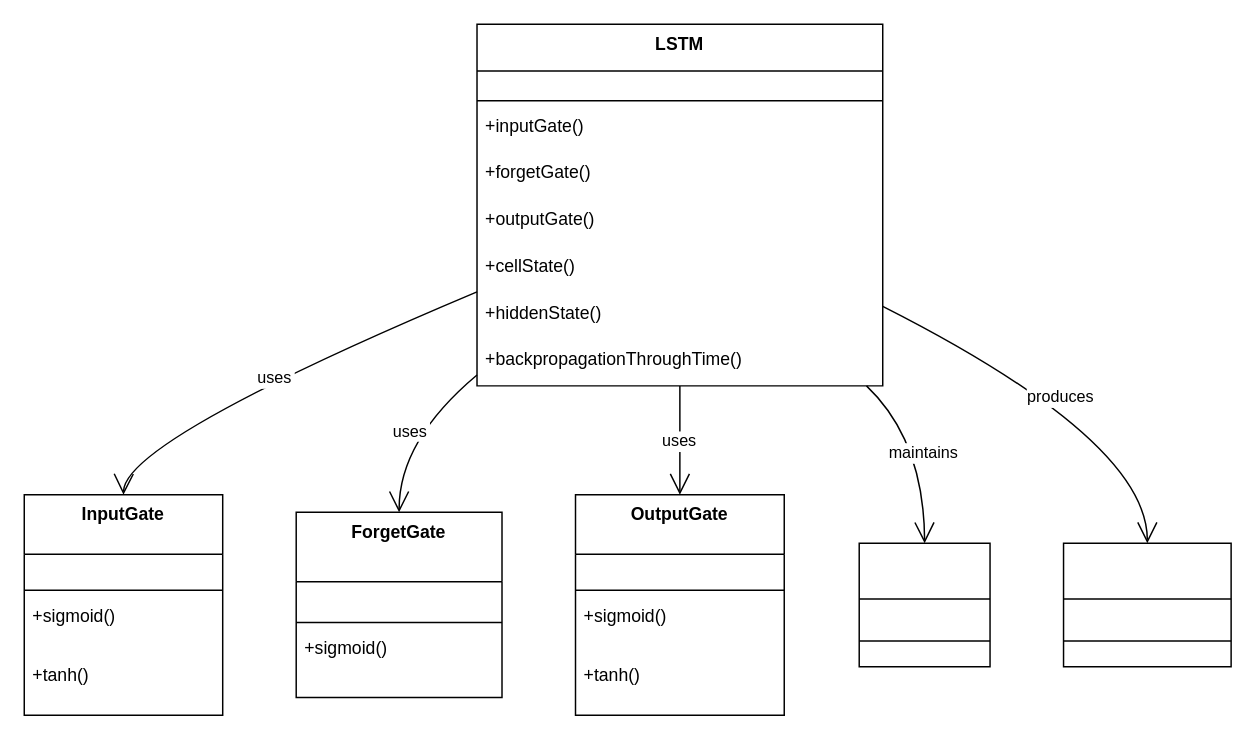
Some shapes in this 1255 by 739 pixel diagram are drawn without their labels. The centre of each missing label's shape, as x and y in pixels:
"cellState" belongs at (924,604).
"hiddenState" belongs at (1146,604).
